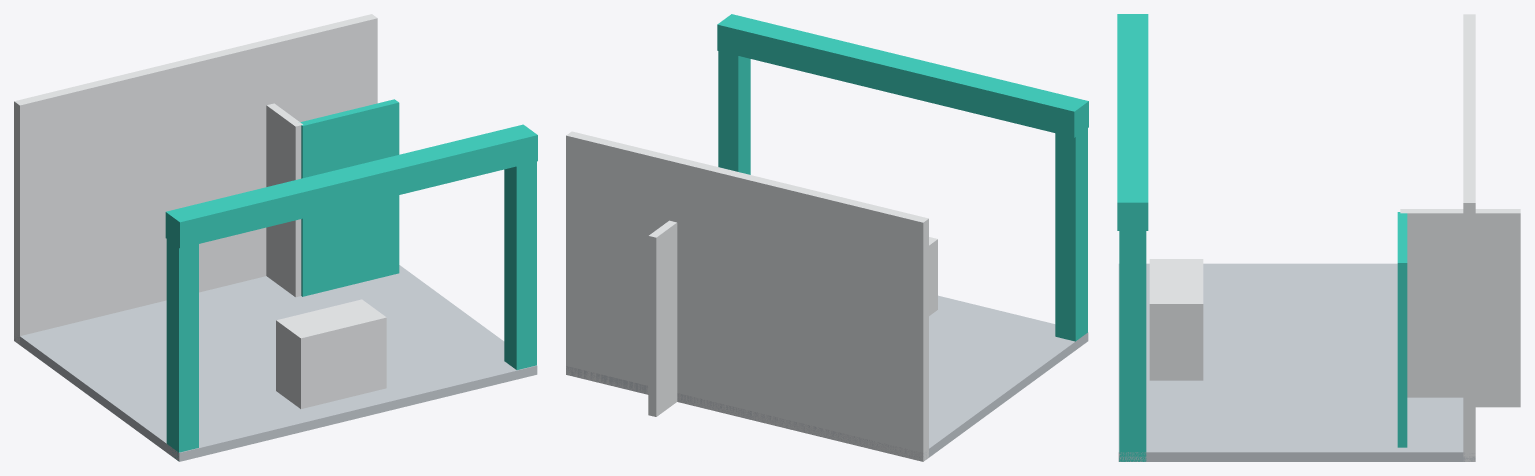
3 renders of one model, left to right at view 1: azimuth 30°, elevation 25°; view 2: azimuth 150°, elevation 25°; view 3: azimuth 270°, elevation 25°, orthographic. The views are drawn at different scales.
Parts seen in each view (by area): view 1: Exhibition Booth Concept; view 2: Exhibition Booth Concept; view 3: Exhibition Booth Concept.
Boxes of the visible parts, <box> form: Exhibition Booth Concept: <box>14,14,537,461</box>; Exhibition Booth Concept: <box>566,14,1088,461</box>; Exhibition Booth Concept: <box>1117,14,1520,461</box>.
Size of the model in its own units: 5 by 3.2 by 4.52.
